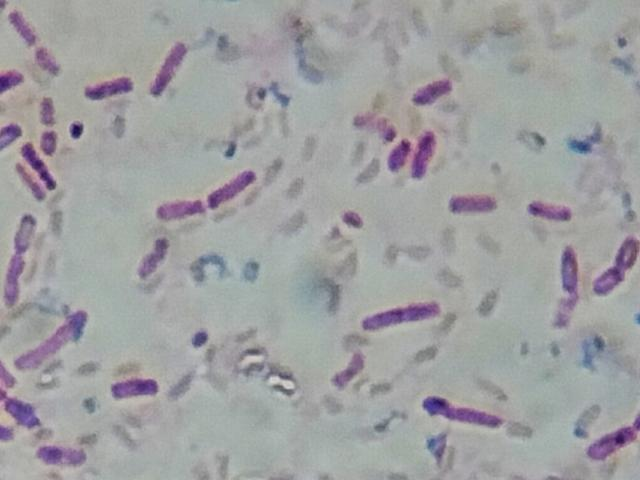E. coli: (17, 312, 96, 372), (425, 392, 505, 433), (595, 231, 640, 301), (144, 44, 192, 98), (205, 168, 262, 213), (361, 303, 440, 330), (140, 235, 183, 283), (557, 248, 585, 319), (588, 418, 635, 459), (19, 138, 56, 188), (0, 386, 39, 428), (415, 70, 456, 109), (155, 196, 210, 225), (530, 195, 575, 229), (37, 439, 93, 466), (413, 129, 440, 185), (113, 374, 160, 406), (86, 75, 134, 105), (4, 252, 32, 301), (450, 190, 496, 219), (10, 205, 38, 250), (9, 8, 36, 50), (2, 59, 30, 99), (388, 137, 408, 177), (37, 94, 59, 128), (0, 115, 21, 149), (43, 127, 61, 153)
